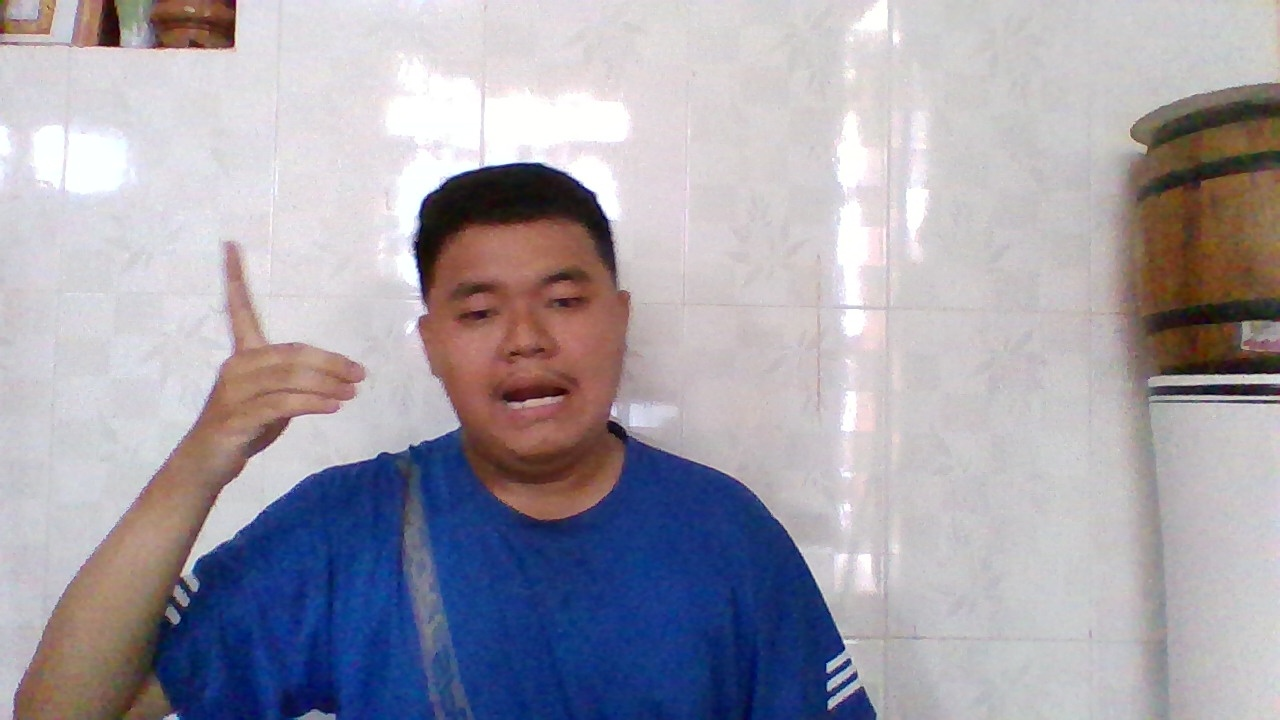D: (185, 235, 373, 490)
